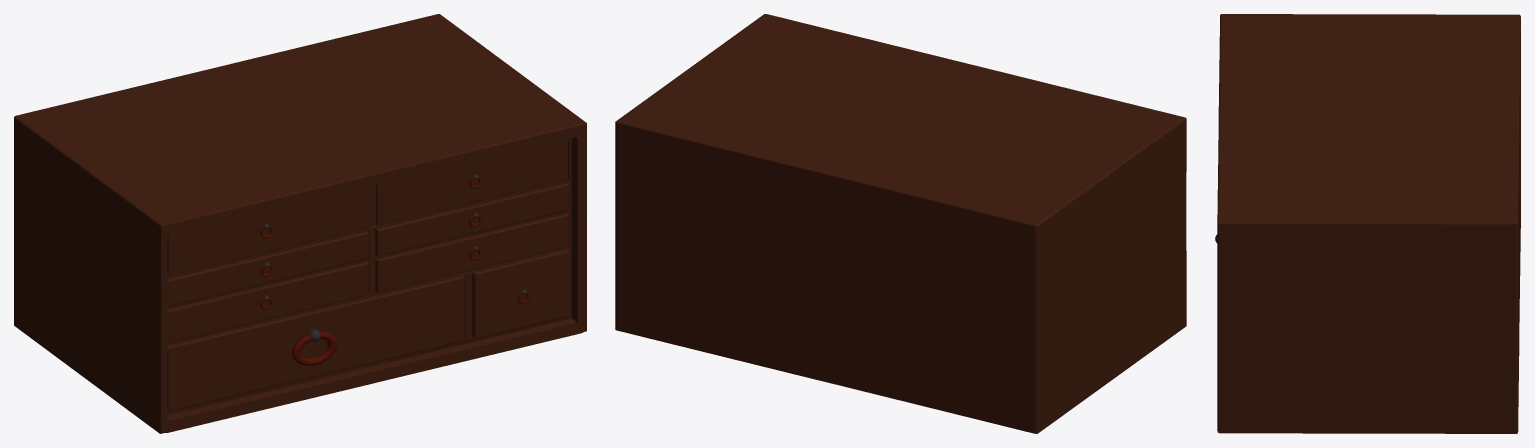
Rendered from Mueble.fbx.
3 views of the same model, side by side, from view 1: azimuth 30°, elevation 25°; view 2: azimuth 150°, elevation 25°; view 3: azimuth 270°, elevation 25° (orthographic).
Visible parts, largest first — view 1: Cube.003; view 2: Cube.003; view 3: Cube.003.
Boxes of the visible parts, x1=… form: Cube.003: x1=14, y1=14, x2=586, y2=433; Cube.003: x1=615, y1=14, x2=1186, y2=433; Cube.003: x1=1215, y1=14, x2=1520, y2=433.
Bounding box in the file's own units: 1194 × 560 × 735.
